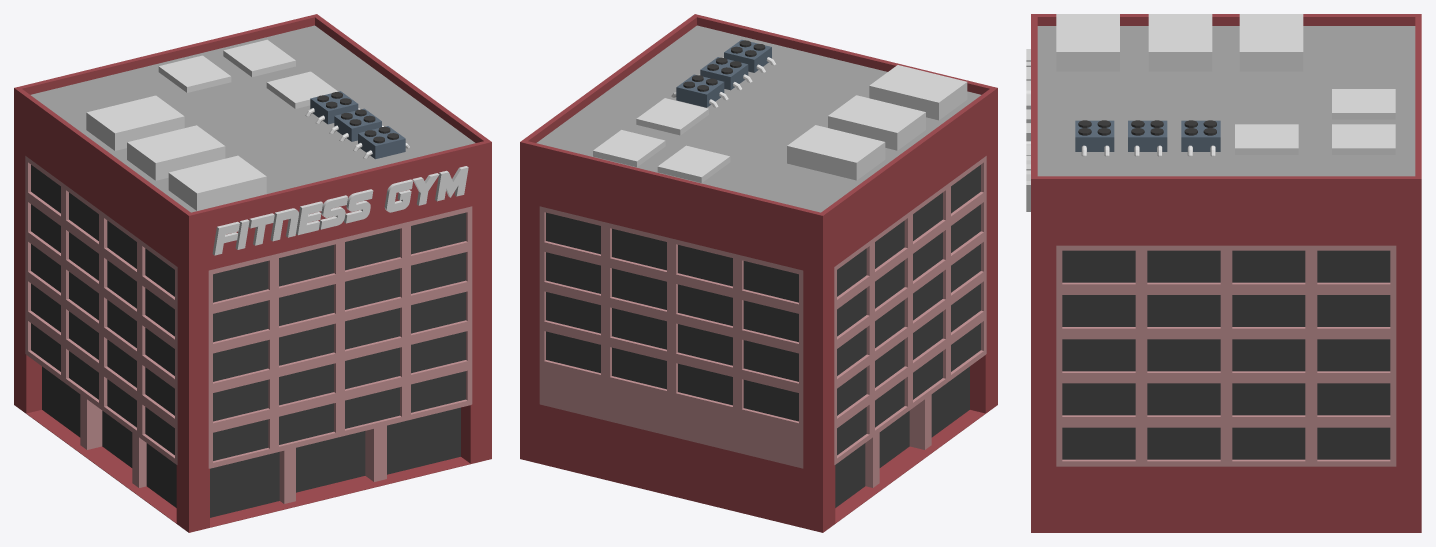
Rendered from 02 Fitness Gym.fbx.
3 renders of one model, left to right at view 1: azimuth 30°, elevation 25°; view 2: azimuth 150°, elevation 25°; view 3: azimuth 270°, elevation 25°, orthographic. The views are drawn at different scales.
Visible parts, largest first — view 1: _Cafe_3:pCube1; view 2: _Cafe_3:pCube1; view 3: _Cafe_3:pCube1.
Boxes of the visible parts, x1,y1,x2,y2 form: _Cafe_3:pCube1: (14,14,491,532); _Cafe_3:pCube1: (520,14,997,532); _Cafe_3:pCube1: (1026,14,1421,532).
Size of the model in its own units: 232 by 239 by 234.
